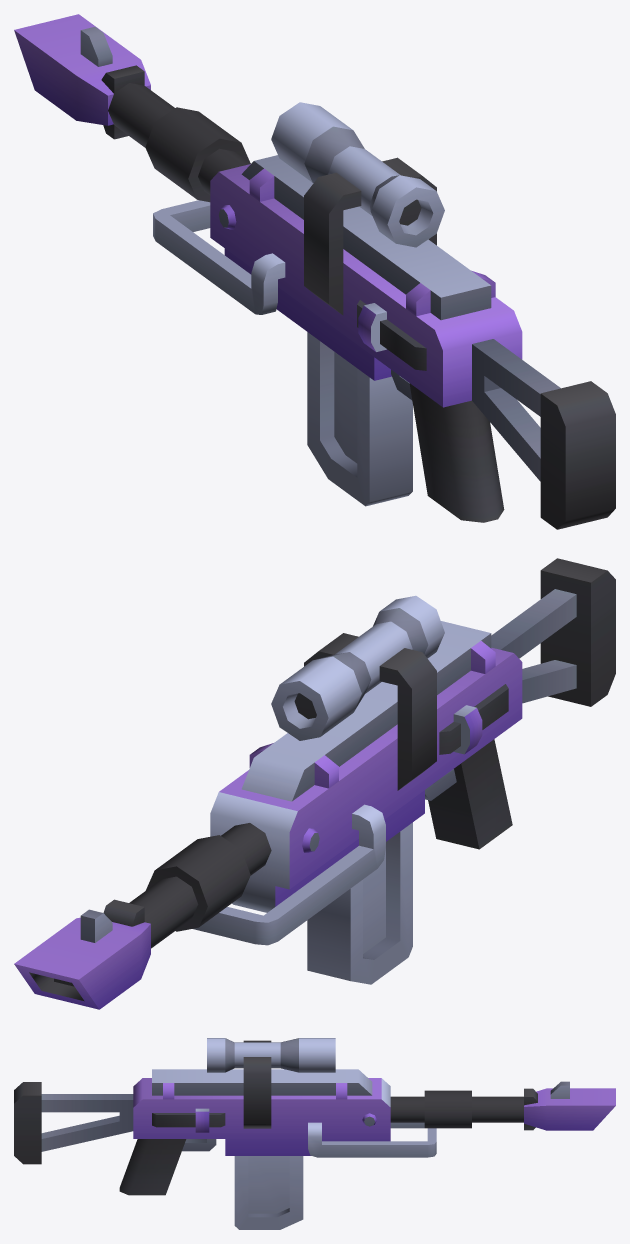
The model's file is sniper.glb.
3 renders of one model, top to bottom at view 1: azimuth 30°, elevation 25°; view 2: azimuth 150°, elevation 25°; view 3: azimuth 270°, elevation 25°, orthographic. The views are drawn at different scales.
Visible parts, largest first — view 1: blaster-f; view 2: blaster-f; view 3: blaster-f.
Boxes of the visible parts, <box> form: blaster-f: <box>14,14,615,529</box>; blaster-f: <box>14,558,615,1009</box>; blaster-f: <box>14,1038,615,1229</box>.
Size of the model in its own units: 0.17 by 0.4449 by 1.31.
1 material, 1 textured.
